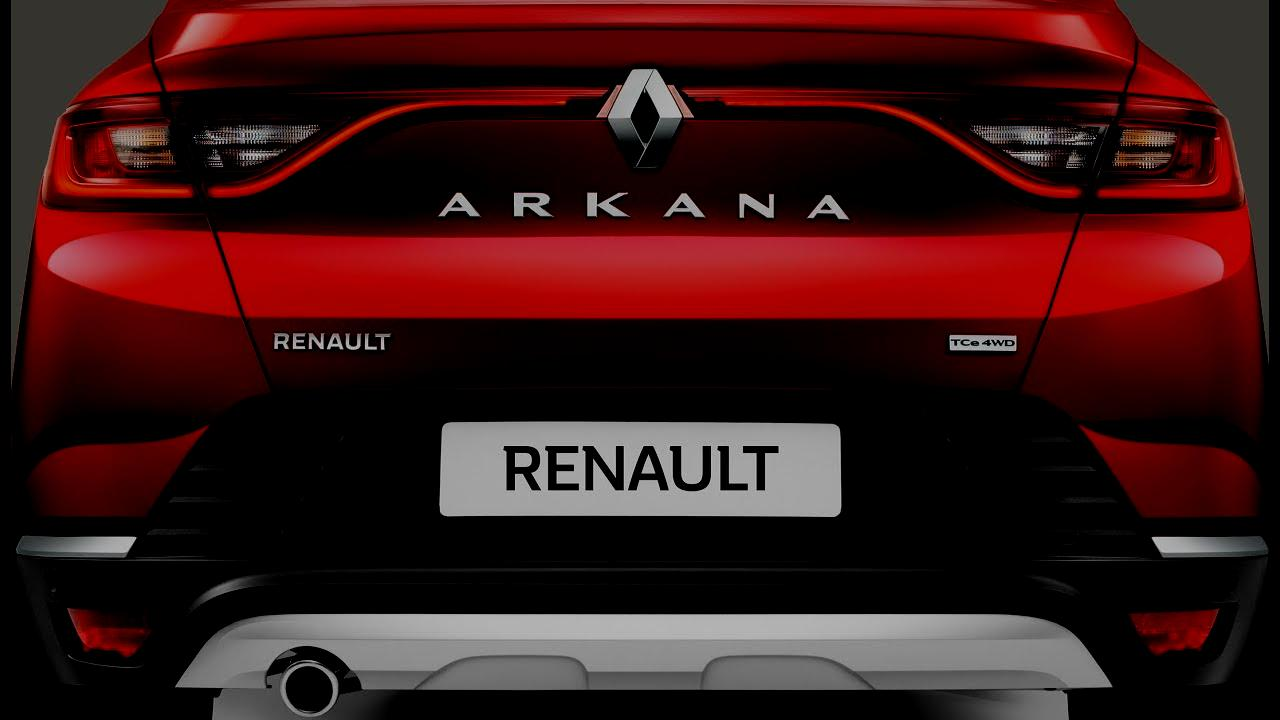Renault: (593, 46, 692, 181)
